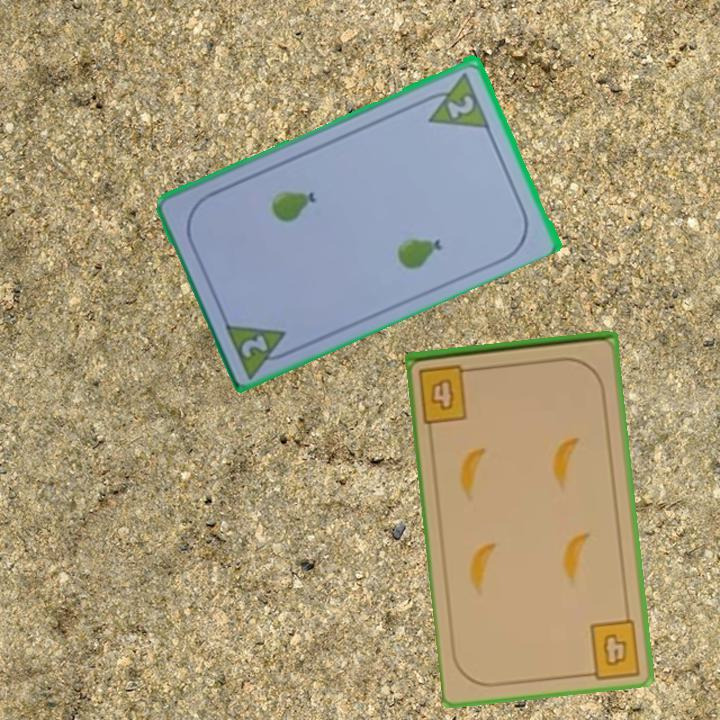2p: (220, 317, 299, 379), (417, 67, 493, 131)
4b: (415, 360, 481, 425), (581, 615, 643, 680)
